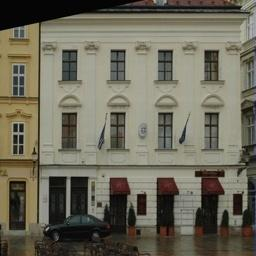building: (42, 0, 250, 234)
